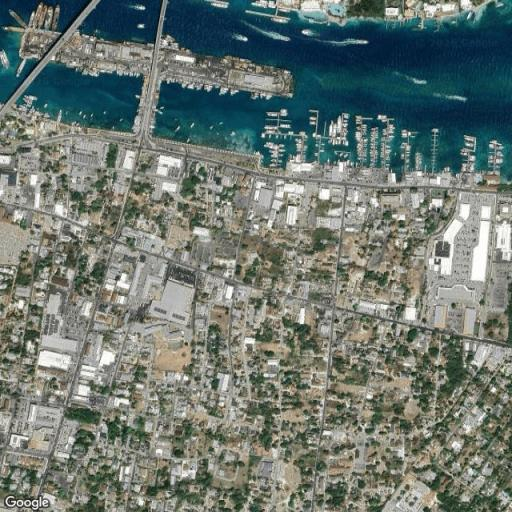ship: (234, 15, 294, 48), (431, 83, 477, 108), (389, 66, 432, 89), (308, 37, 375, 48), (199, 0, 233, 11), (9, 10, 27, 27), (33, 3, 43, 28), (267, 16, 291, 26), (37, 4, 47, 27), (44, 7, 53, 29), (52, 4, 59, 31), (16, 59, 26, 77), (0, 50, 9, 68), (22, 92, 40, 100), (28, 11, 35, 27), (301, 29, 317, 36), (460, 140, 474, 148), (488, 144, 506, 150), (232, 34, 247, 41), (466, 10, 475, 21), (262, 144, 278, 150), (337, 115, 342, 134), (337, 150, 347, 159), (131, 4, 145, 10), (408, 130, 420, 137), (188, 120, 196, 130), (462, 136, 475, 142), (333, 122, 338, 137), (174, 124, 182, 133), (55, 111, 62, 121), (329, 120, 333, 137), (23, 98, 34, 104), (458, 151, 469, 157), (280, 123, 293, 128), (470, 154, 479, 161), (376, 113, 388, 118), (184, 136, 192, 143), (495, 160, 506, 165), (489, 139, 500, 144), (260, 130, 277, 133), (343, 152, 350, 159), (88, 110, 94, 118), (208, 123, 214, 131), (157, 110, 165, 116), (230, 130, 236, 138), (262, 127, 278, 130), (269, 152, 278, 157), (497, 153, 506, 158), (346, 138, 351, 147), (280, 109, 287, 115), (134, 92, 140, 99), (278, 148, 288, 152), (306, 121, 316, 125), (217, 90, 225, 95), (265, 113, 278, 116), (44, 102, 50, 108), (102, 107, 106, 116), (217, 121, 223, 127), (286, 130, 295, 134), (59, 109, 64, 116), (279, 143, 286, 148), (401, 141, 408, 146), (406, 150, 413, 155), (319, 149, 326, 154), (158, 106, 166, 110), (388, 134, 396, 138), (261, 133, 266, 139), (137, 24, 144, 28), (82, 113, 86, 120), (332, 139, 336, 146), (400, 129, 407, 133), (266, 94, 270, 101), (75, 122, 80, 127), (118, 118, 124, 122), (388, 123, 396, 126), (362, 132, 368, 136), (260, 94, 264, 100), (112, 124, 115, 131), (444, 166, 447, 173), (254, 150, 258, 155), (338, 140, 342, 145), (335, 140, 338, 146), (251, 97, 257, 100), (309, 117, 317, 119), (327, 158, 331, 162), (393, 152, 397, 156), (321, 143, 326, 146), (80, 110, 82, 117), (448, 166, 450, 173), (228, 93, 240, 94), (361, 126, 369, 127)
